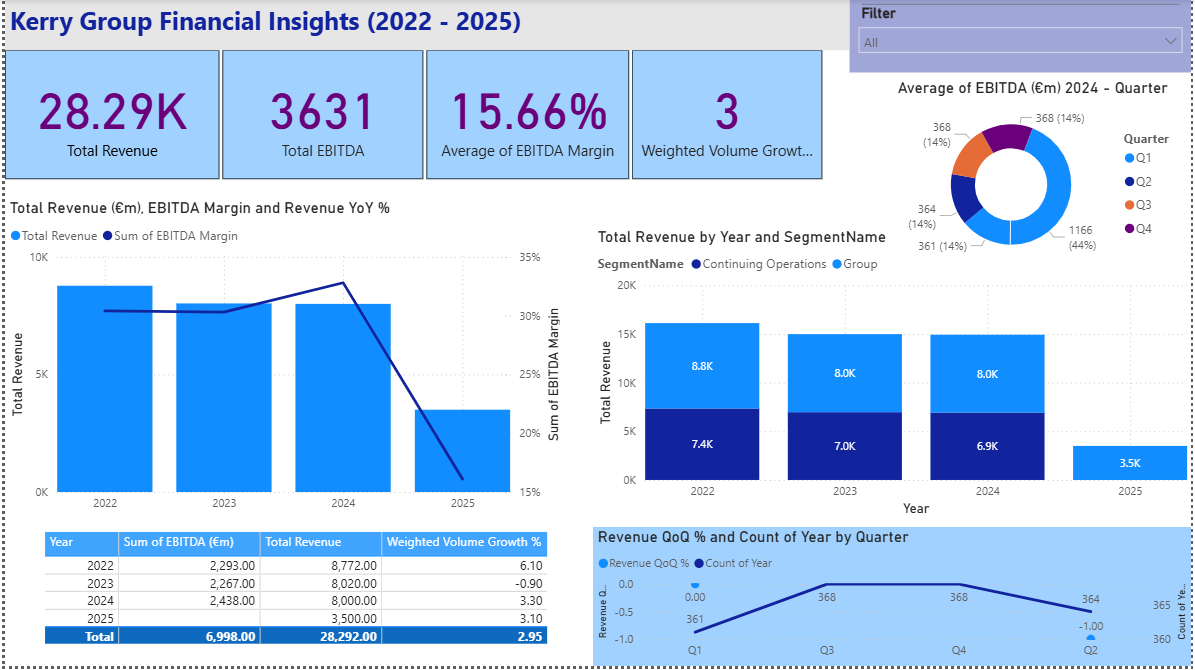

The dashboard page shown, as its layout file describes it:
{"tool":"powerbi","page":{"name":"Page 1","canvas":[1280,720],"ordinal":0},"visuals":[{"type":"slicer","fields":{"Values":["DateTable.Year","DateTable.Quarter","Fact_financials.Segment","Fact_financials.Region"]},"box":[911.6,0,369.2,79.3],"z":0},{"type":"card","title":"Total Revenue (€","fields":{"Values":["Fact_financials.Total Revenue"]},"box":[0,55.1,231.5,139.3],"z":1000},{"type":"card","fields":{"Values":["Fact_financials.Total EBITDA"]},"box":[234.8,55.1,217,139.3],"z":2000},{"type":"card","fields":{"Values":["Avg(Fact_financials.EBITDA Margin)"]},"box":[455,55.1,218.6,139.3],"z":3000},{"type":"card","fields":{"Values":["Fact_financials.Average Volume Growth"]},"box":[676.8,55.1,205.6,139.3],"z":4000},{"type":"lineClusteredColumnComboChart","title":"Total Revenue (€m), EBITDA Margin and Revenue YoY %","fields":{"Category":["DateTable.Date"],"Y":["Fact_financials.Total Revenue"],"Y2":["Sum(Fact_financials.EBITDA Margin)"]},"box":[0,215.4,604,346.5],"z":5000},{"type":"columnChart","fields":{"Category":["DateTable.Year"],"Y":["Fact_financials.Total Revenue"],"Series":["Dim_Segment.SegmentName"]},"box":[634.7,246.1,646.1,315.7],"z":6000},{"type":"tableEx","fields":{"Values":["DateTable.Year","Sum(Fact_financials.EBITDA (€m))","Fact_financials.Total Revenue","Fact_financials.Weighted Volume Growth %"]},"box":[37.2,570,555.4,150.6],"z":7000},{"type":"textbox","box":[0,0,911.6,55.1],"z":8000},{"type":"lineChart","fields":{"Y":["Fact_financials.Revenue QoQ %"],"Category":["DateTable.Quarter"],"Y2":["CountNonNull(DateTable.Year)"]},"box":[634.7,570,646.1,150.6],"z":9000},{"type":"donutChart","title":"Average of EBITDA (€m) 2024 - Quarter","fields":{"Category":["DateTable.Quarter"],"Y":["Avg(Fact_financials.EBITDA (€m))","CountNonNull(DateTable.Year)"]},"box":[958.6,85.8,322.2,208.9],"z":10000}]}

Visuals, with their boxes in screenshot pixels (x1, y1, x2, y2), scaled from the page's 1280x720 canvas onto the 1195x670 screenshot:
slicer - DateTable.Year x DateTable.Quarter: [x1=851, y1=0, x2=1194, y2=74]
"Total Revenue (€" card: [x1=0, y1=51, x2=216, y2=181]
card - Fact_financials.Total EBITDA: [x1=219, y1=51, x2=422, y2=181]
card - Avg(Fact_financials.EBITDA Margin): [x1=425, y1=51, x2=629, y2=181]
card - Fact_financials.Average Volume Growth: [x1=632, y1=51, x2=824, y2=181]
"Total Revenue (€m), EBITDA Margin and Revenue YoY %" lineClusteredColumnComboChart: [x1=0, y1=200, x2=564, y2=523]
columnChart - DateTable.Year x Fact_financials.Total Revenue: [x1=593, y1=229, x2=1194, y2=523]
tableEx - DateTable.Year x Sum(Fact_financials.EBITDA (€m)): [x1=35, y1=530, x2=553, y2=669]
textbox: [x1=0, y1=0, x2=851, y2=51]
lineChart - Fact_financials.Revenue QoQ % x DateTable.Quarter: [x1=593, y1=530, x2=1194, y2=669]
"Average of EBITDA (€m) 2024 - Quarter" donutChart: [x1=895, y1=80, x2=1194, y2=274]
